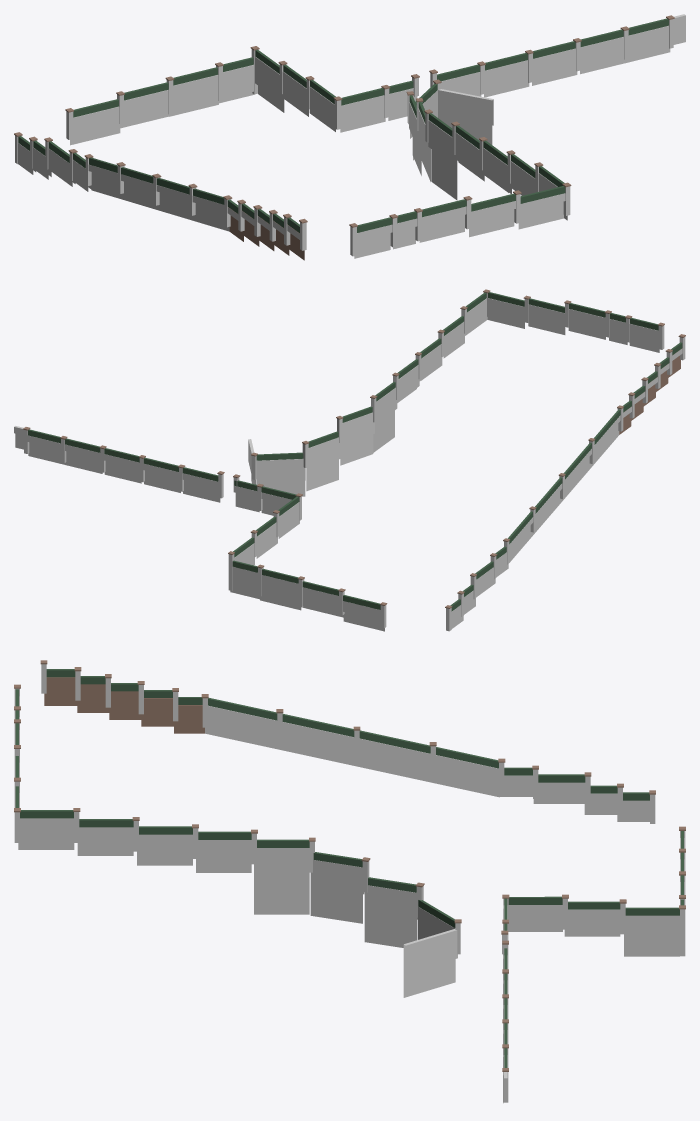
Rendered from city_park_walls_south.dae.
3 renders of one model, top to bottom at view 1: azimuth 30°, elevation 25°; view 2: azimuth 150°, elevation 25°; view 3: azimuth 270°, elevation 25°, orthographic. The views are drawn at different scales.
Visible parts, largest first — view 1: Colmesh-1; view 2: Colmesh-1; view 3: Colmesh-1.
Boxes of the visible parts, x1,y1,x2,y2 form: Colmesh-1: (14, 14, 685, 260); Colmesh-1: (14, 289, 685, 631); Colmesh-1: (14, 660, 685, 1103).
Bounding box in the file's own units: 97.21 × 88.19 × 24.54.
